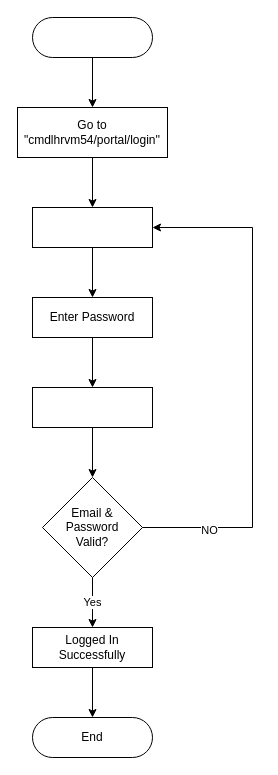
Image size: 278x775. Some labels were removed from this diagram. The box of each missing label's shape, as (x1, y1, x2, y2) in pixels:
Enter Email ID: (32, 206, 152, 248)
Press Login Button: (32, 386, 152, 428)
Start: (32, 16, 152, 58)
